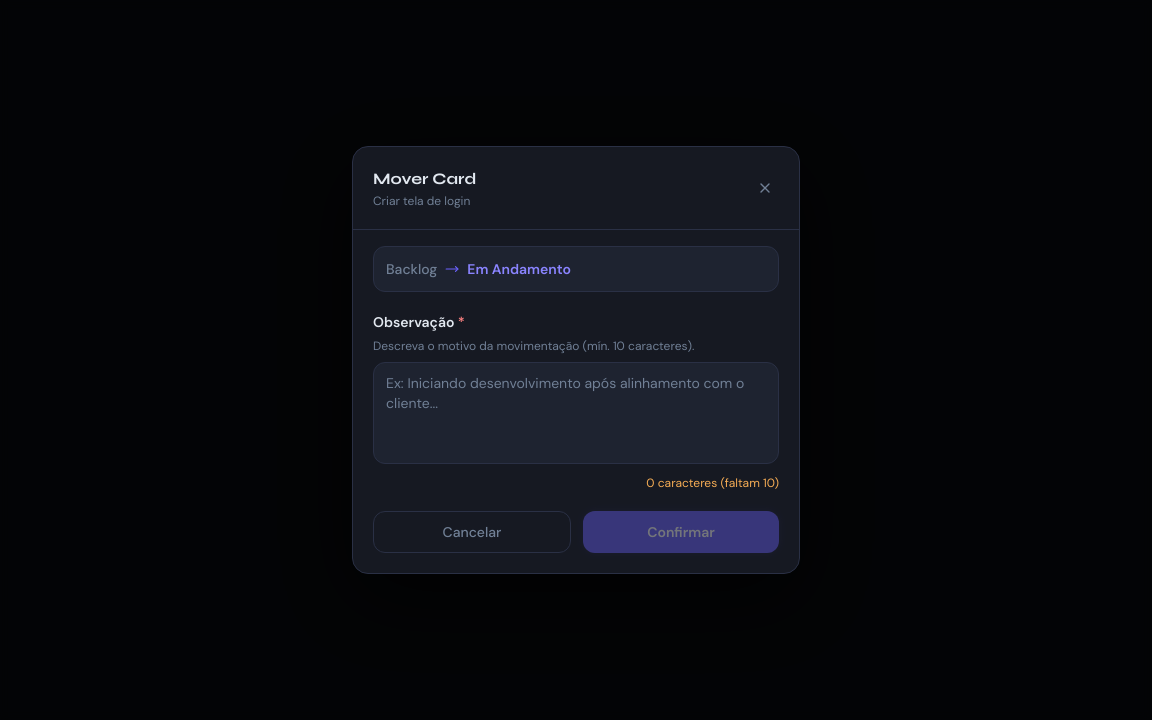
MoveModal › mostra contador de caracteres
The image size is (1152, 720).
Type "Olá" into the text box.
click(576, 413); type("Olá")  # box [373,362,779,464]
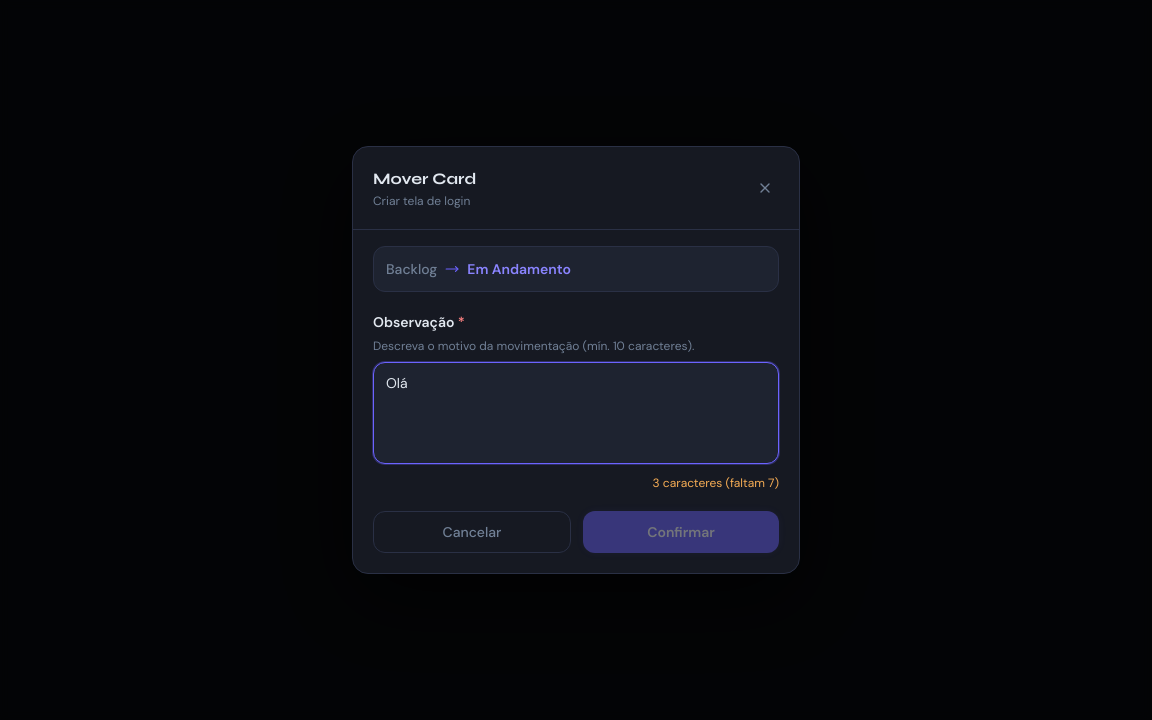
Check: the text "3 caracteres (faltam 7)" is shown, box [652,475,779,491]
